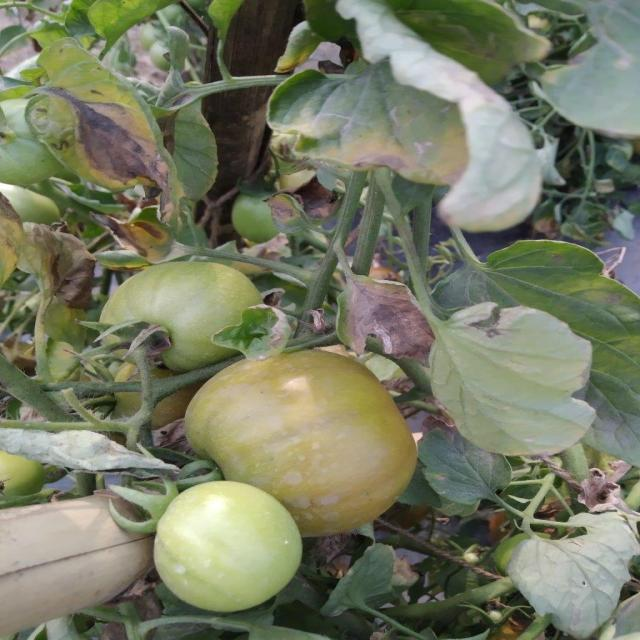Unripe: (180, 349, 414, 538), (149, 479, 302, 613), (97, 257, 260, 369)
